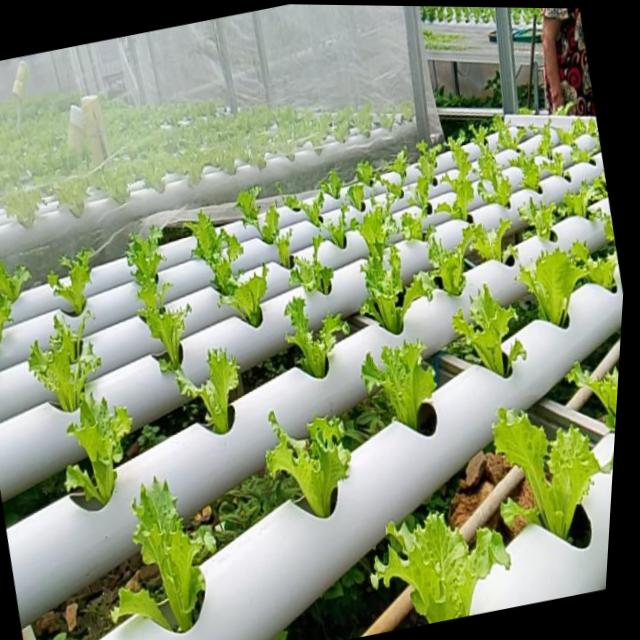Baby: (376, 510, 514, 620), (497, 406, 614, 534), (139, 476, 221, 629), (133, 229, 196, 379), (272, 411, 356, 517), (75, 394, 140, 505), (366, 341, 441, 436), (37, 317, 108, 412), (457, 285, 525, 377), (520, 244, 590, 325), (182, 349, 245, 434), (290, 298, 354, 379), (426, 224, 488, 301), (191, 213, 248, 296), (477, 127, 517, 207), (295, 237, 347, 296), (355, 200, 403, 262), (226, 267, 274, 328), (56, 251, 100, 317), (0, 293, 22, 367), (517, 150, 546, 191), (498, 115, 531, 149), (385, 172, 409, 205), (405, 213, 429, 241), (542, 121, 559, 158)
